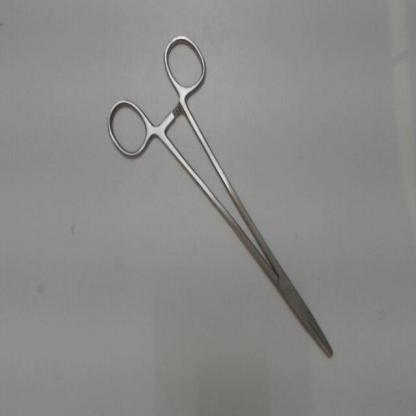8 Mayo Needle Holder: (100, 23, 344, 372)
